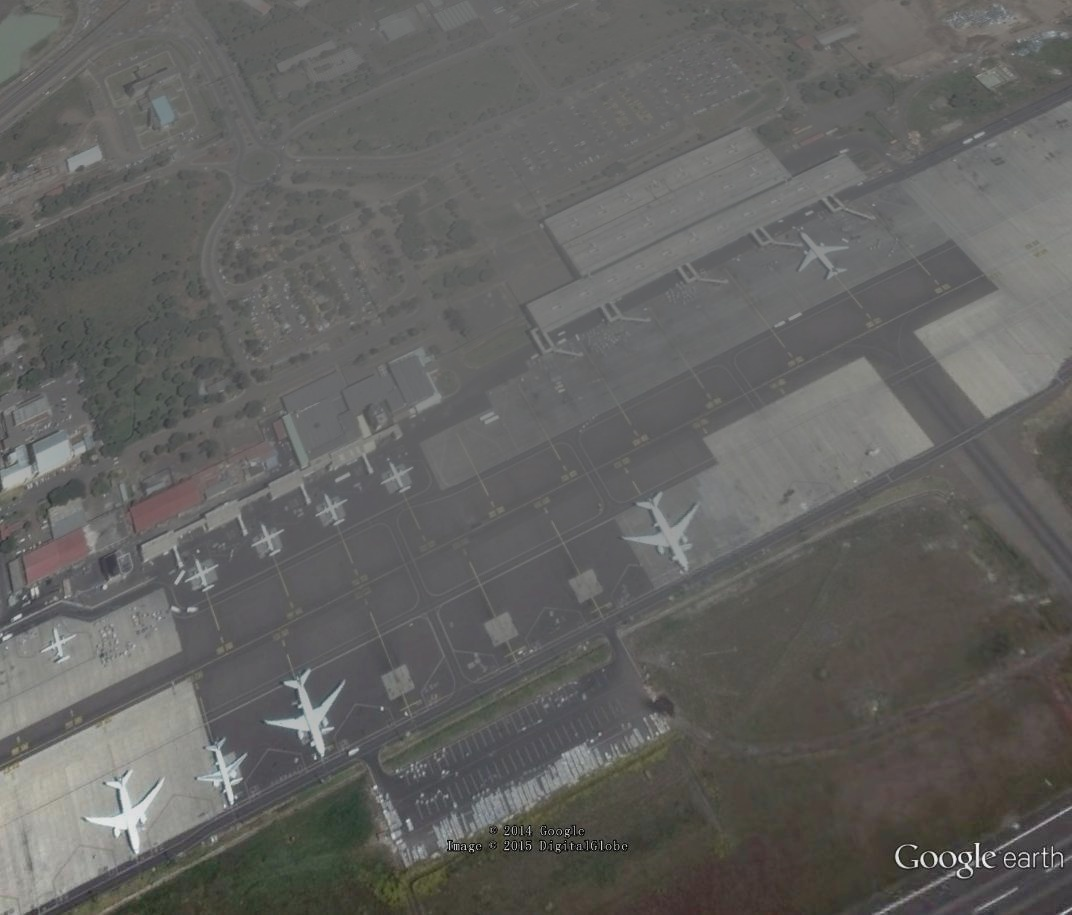aircraft: (262, 663, 349, 760), (80, 766, 169, 858), (618, 489, 703, 574), (191, 733, 253, 811), (793, 229, 853, 285), (40, 624, 83, 669), (248, 519, 290, 564), (182, 556, 224, 600), (376, 456, 419, 498), (313, 489, 350, 529)
